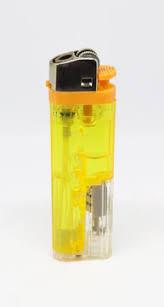lighter: (46, 48, 118, 261)
